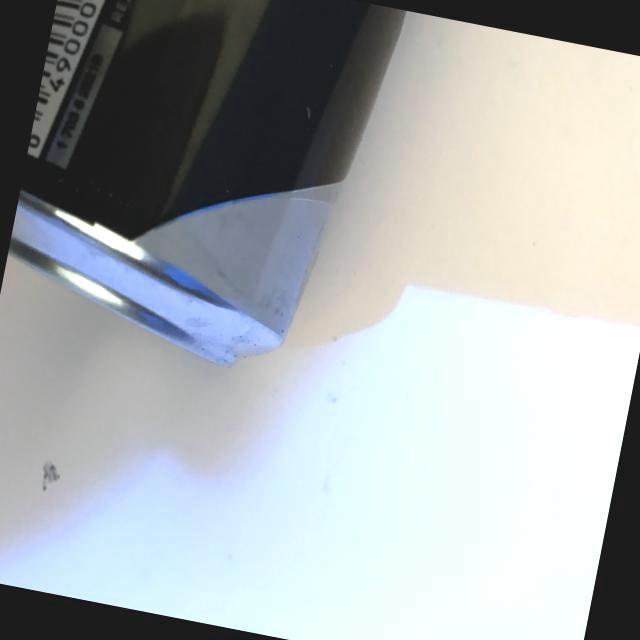metal: (0, 0, 421, 428)
